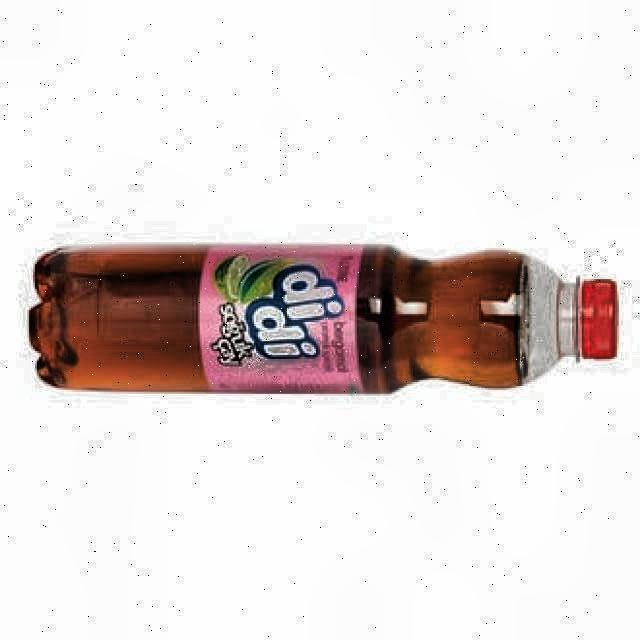plastic: (29, 245, 618, 392)
